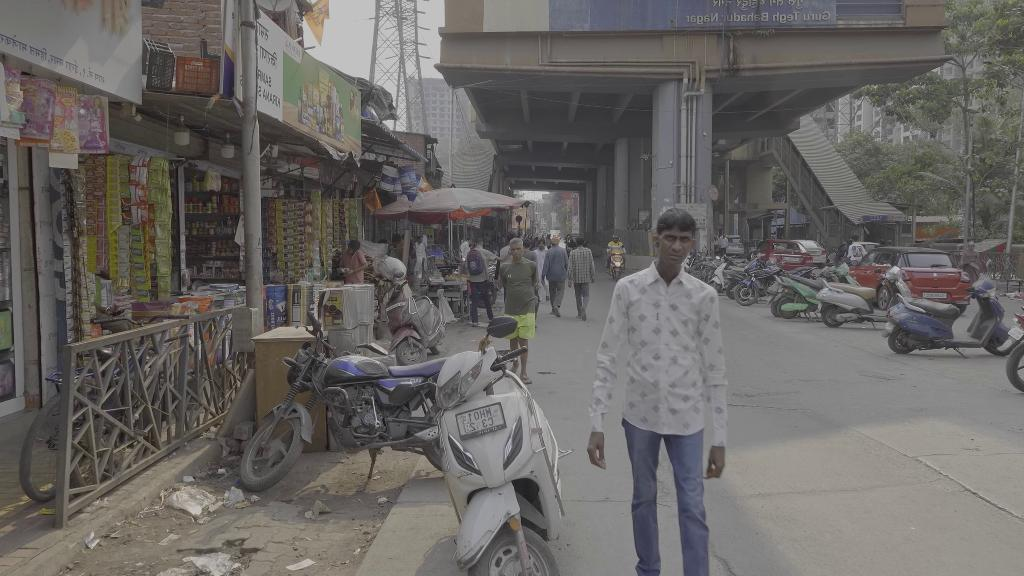garbage: (161, 479, 211, 517), (184, 549, 247, 576)
